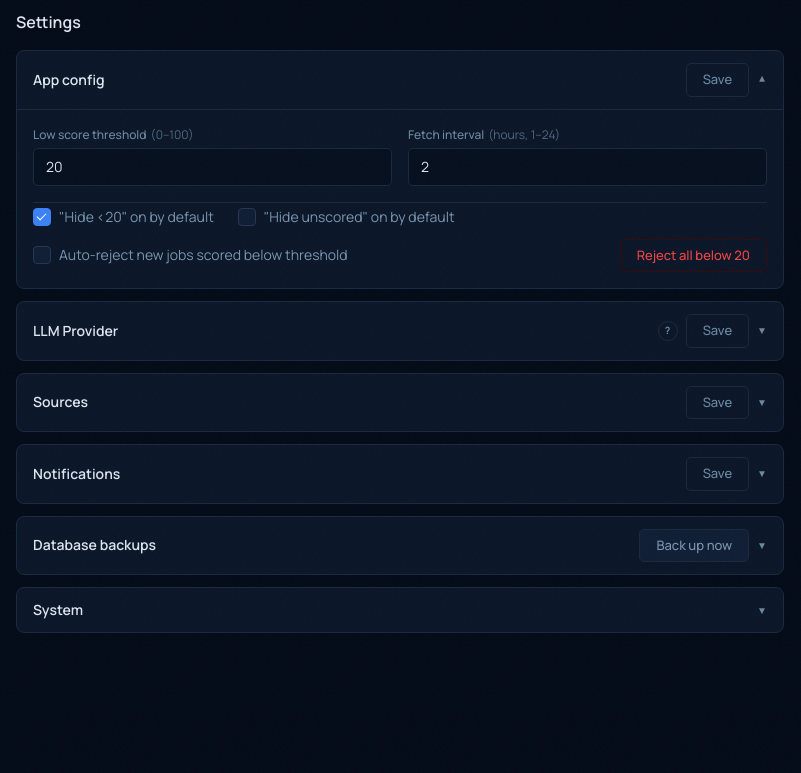
Scenario: SettingsView › shows LM Studio Connected when llmProvider is lmstudio
Click the text "System" at (58, 610), box [33,600,83,620]
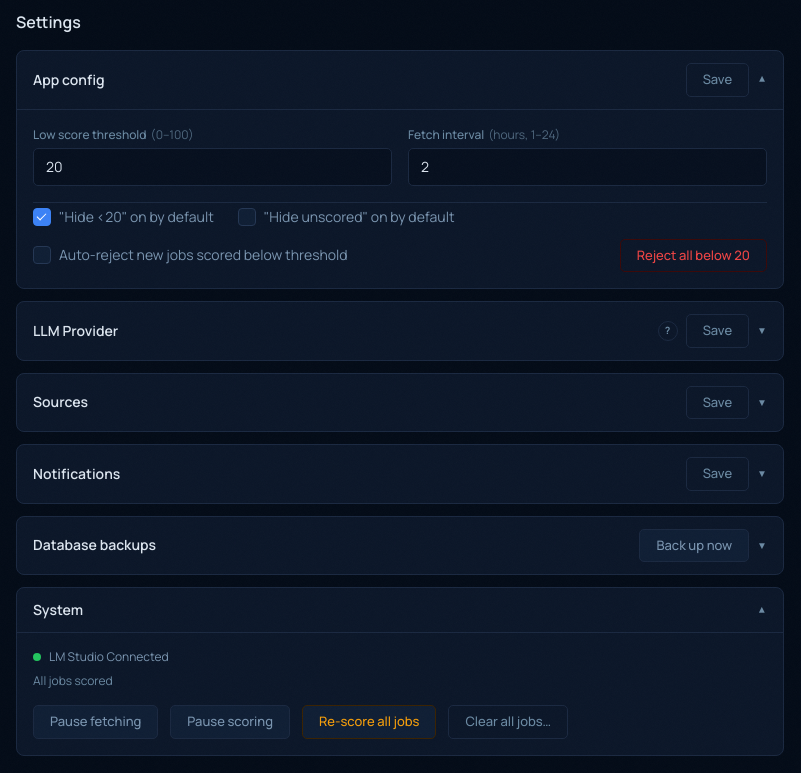
expect the text "LM Studio Connected" is shown: met, box [49,649,169,665]
